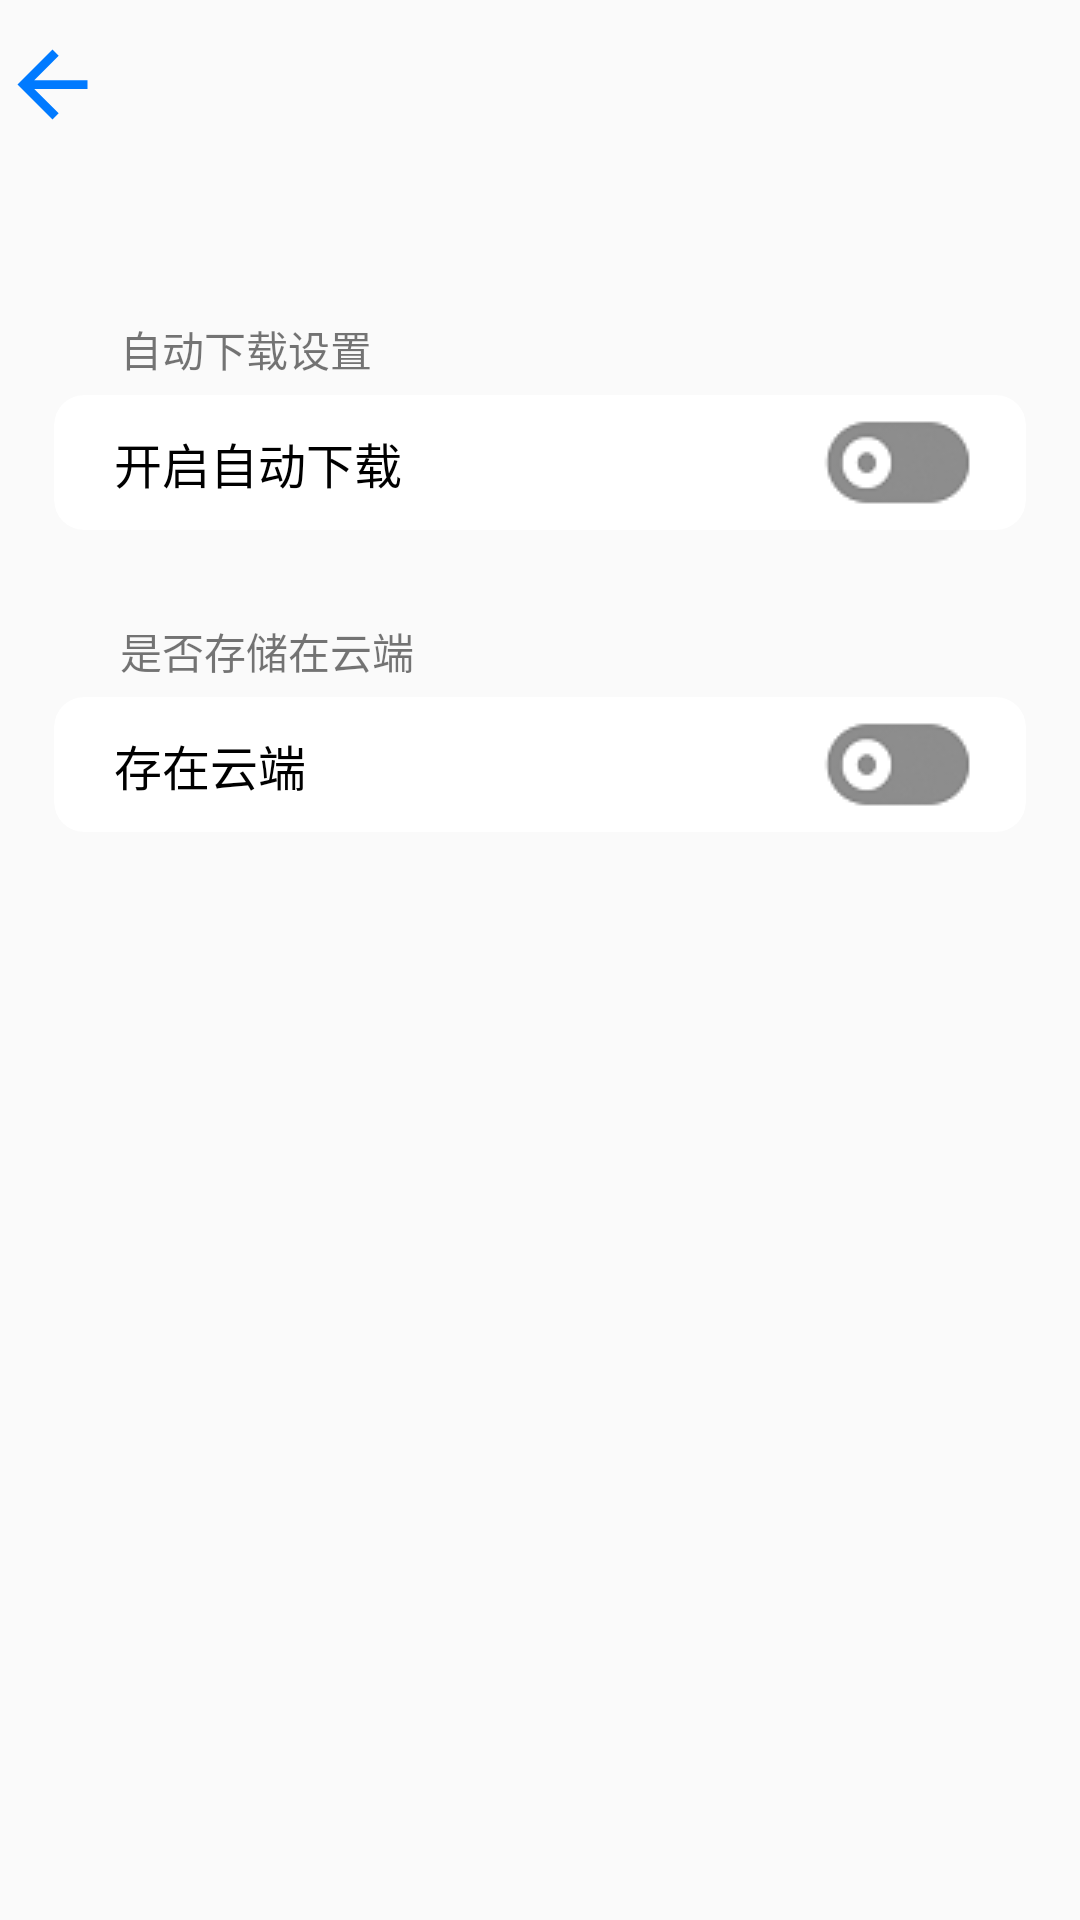

Locate icon controls on the screen. Image size 1080px×1920px, boxes as (x1, y1, x2, y2).
arrow back: (17, 49, 88, 120)
